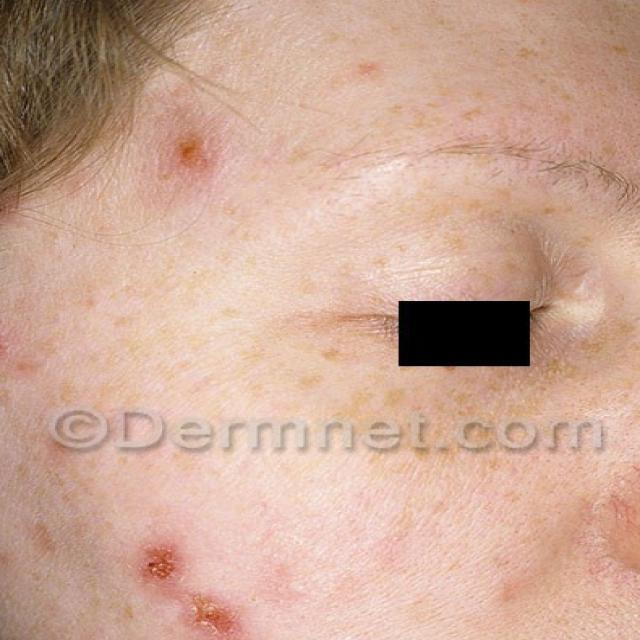Acne: (8, 519, 313, 640), (299, 36, 485, 129), (31, 423, 108, 497), (166, 127, 229, 196), (0, 308, 21, 368)
